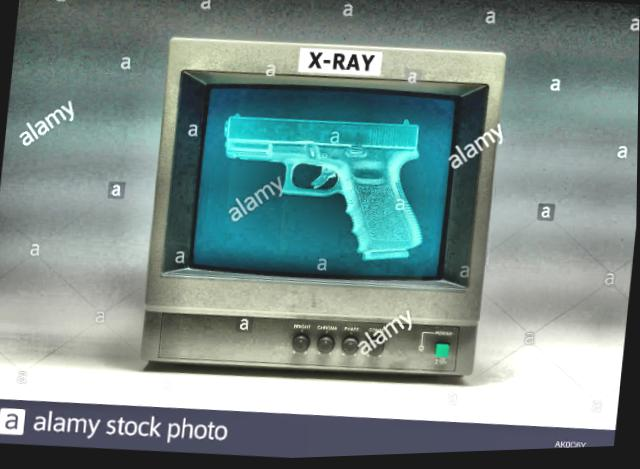pistol: (210, 105, 438, 273)
